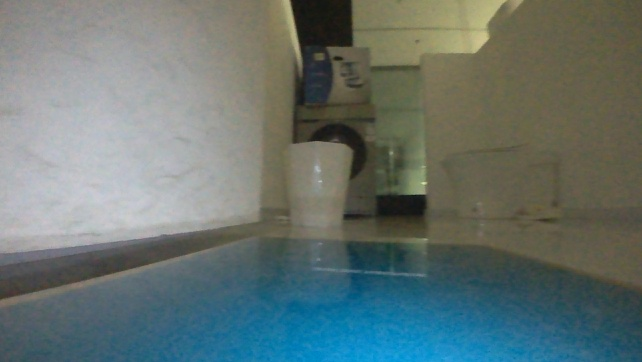shoe: (508, 198, 567, 226)
toilet: (434, 135, 583, 229)
trash_can: (273, 137, 354, 232)
washing_machine: (292, 96, 380, 225)
